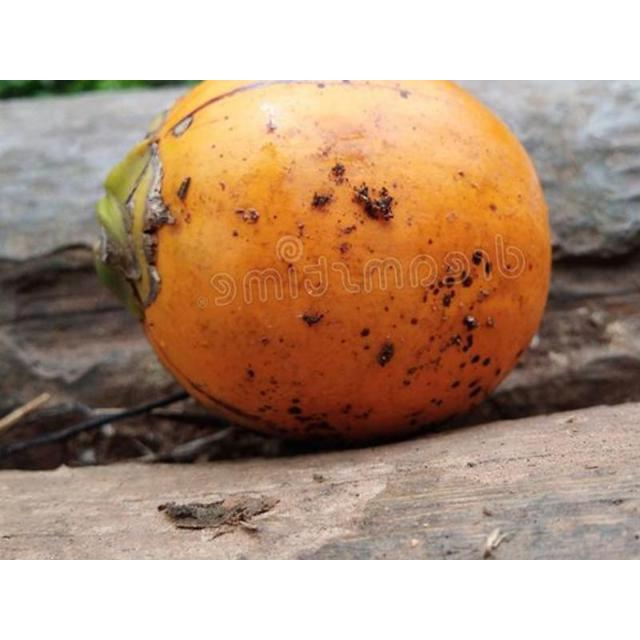good: (95, 80, 551, 438)
